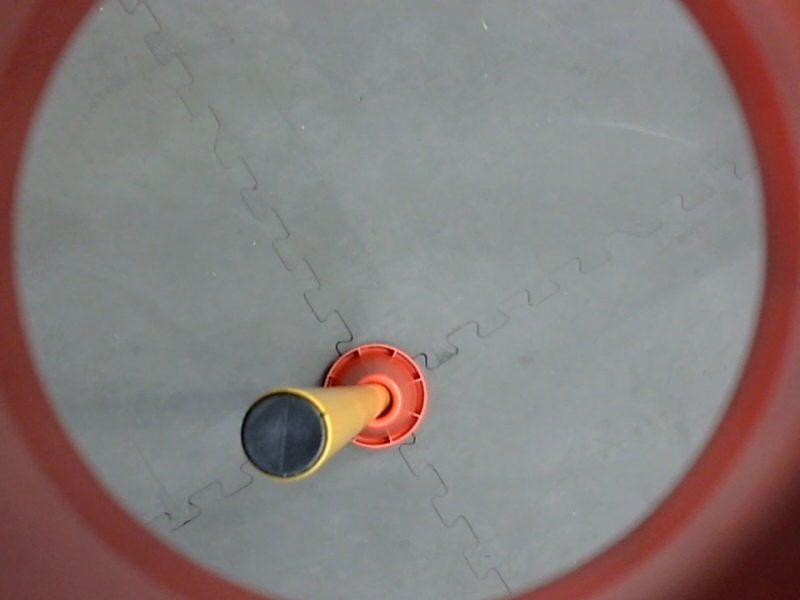tip: (237, 387, 335, 485)
